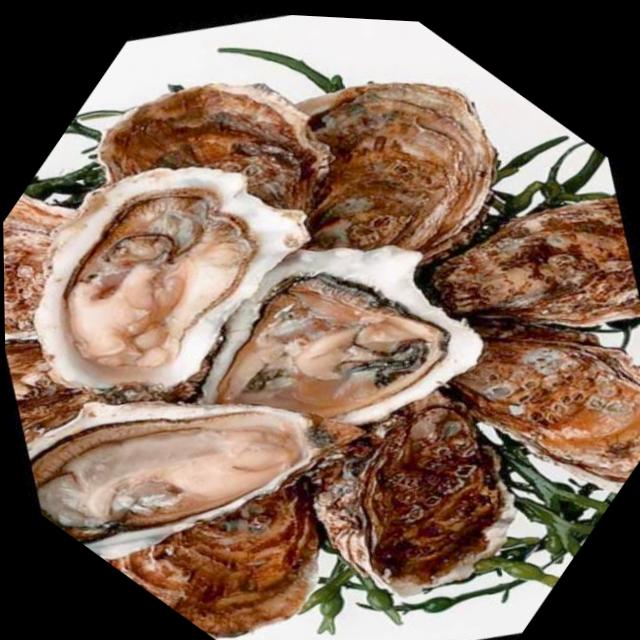Oyster-Closed: (311, 394, 510, 597)
Oyster-Indeterminate: (304, 83, 497, 258), (439, 319, 640, 482), (94, 84, 330, 215), (415, 200, 640, 337), (127, 493, 323, 633), (3, 171, 109, 352), (5, 318, 97, 458)
Oyster-Open: (51, 169, 307, 389), (203, 250, 481, 430), (28, 401, 318, 543)
